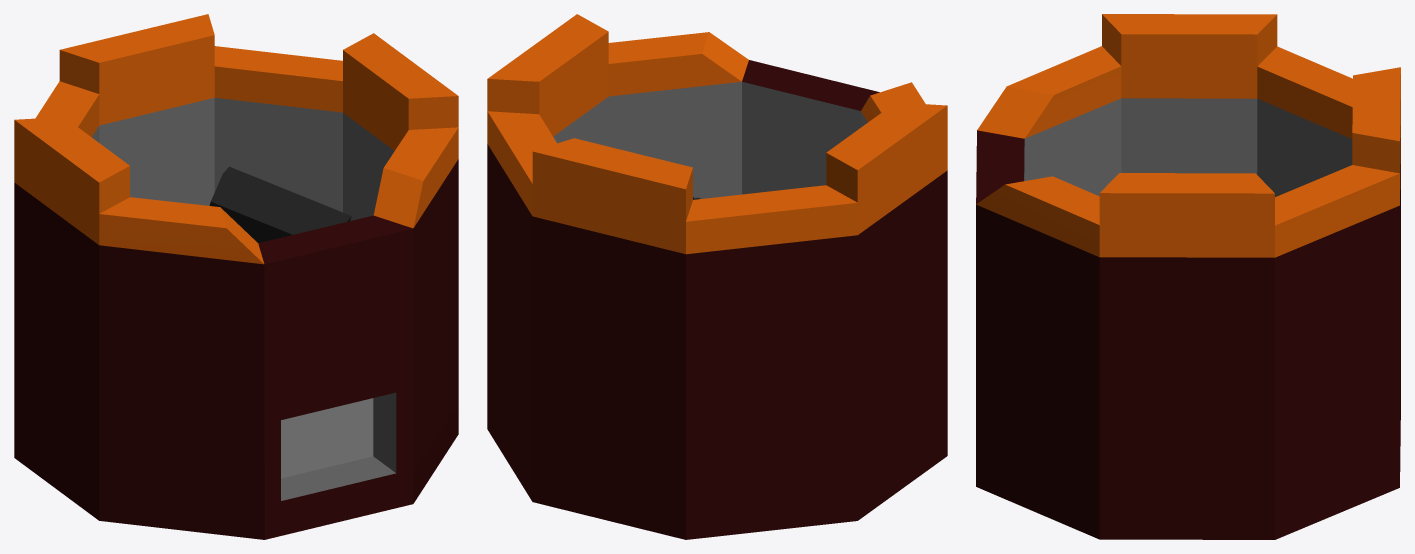
Rendered from SM_CharcoalStove.fbx.
3 views of the same model, side by side, from view 1: azimuth 30°, elevation 25°; view 2: azimuth 150°, elevation 25°; view 3: azimuth 270°, elevation 25° (orthographic). The views are drawn at different scales.
Visible parts, largest first — view 1: Cylinder, Cylinder.004; view 2: Cylinder; view 3: Cylinder.
Part boxes in pixels (box(x1,y1,x2,y2)): Cylinder: box(14, 14, 458, 539); Cylinder.004: box(209, 166, 351, 242); Cylinder: box(487, 14, 947, 539); Cylinder: box(976, 14, 1400, 539).
Bounding box in the file's own units: 0.2778 × 0.25 × 0.2778.
